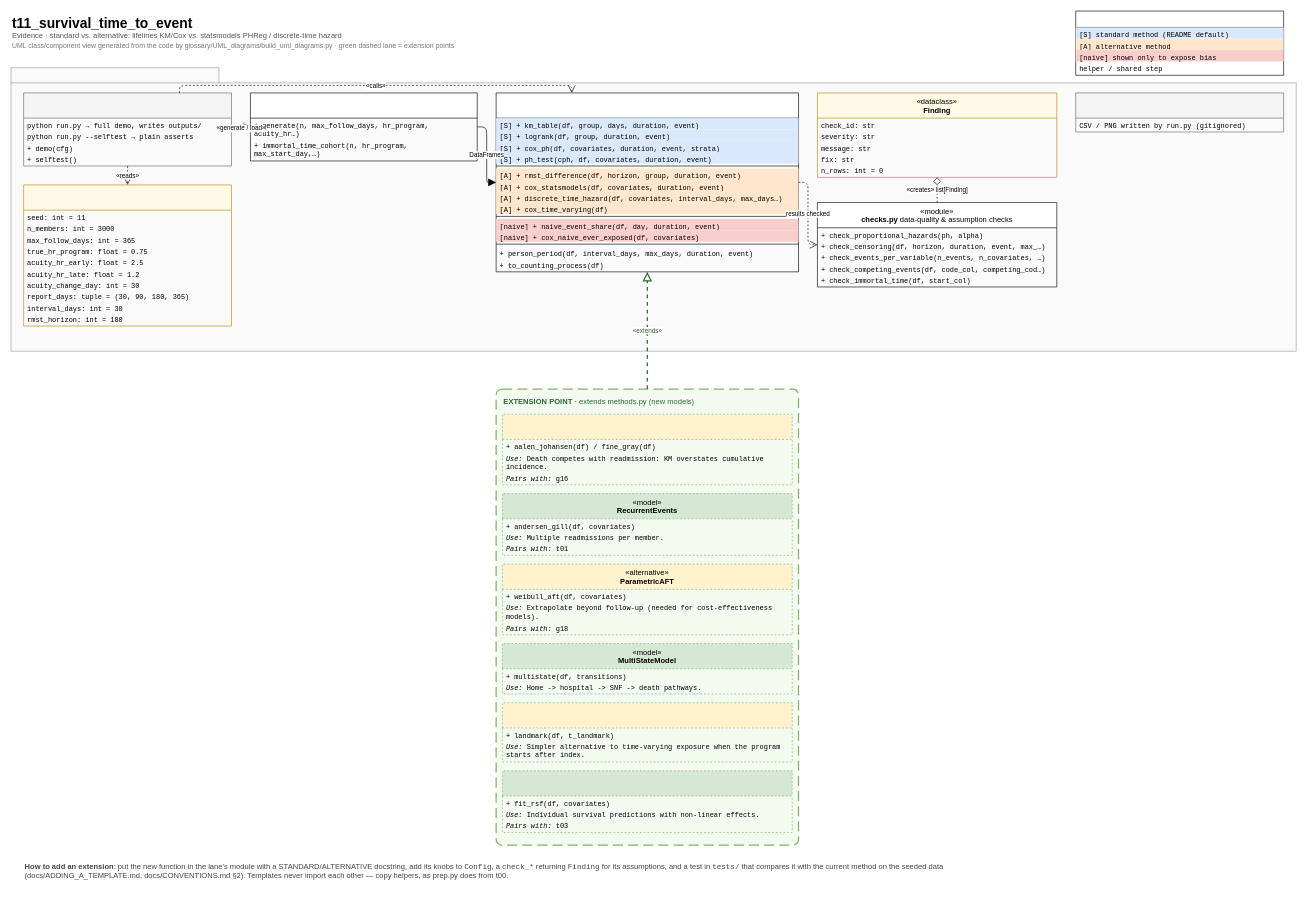
Image size: 1307x900. Some labels were removed from this diagram. The shapes that lost their labels are listed below. From the top down, each one's box as (x1, y1, x2, y2) in pixels, then its label:
(1075, 10, 1284, 75): Legend
(23, 92, 232, 166): «entrypoint» run.py
(250, 92, 477, 161): «module» data.py seeded synthetic + public loaders
(1075, 92, 1284, 132): «artifact» outputs/
(495, 92, 799, 272): «module» methods.py the analysis
(10, 67, 1296, 351): package survival_time_to_event (templates/t11_survival_time_to_event)
(23, 184, 232, 326): «dataclass» Config (config.py)
(502, 414, 792, 485): «alternative» CompetingRisks
(502, 702, 792, 762): «alternative» LandmarkAnalysis
(502, 770, 792, 833): «model» RandomSurvivalForest
